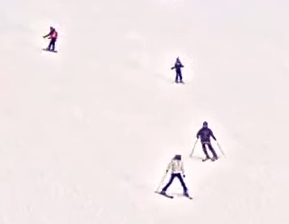skier: (144, 149, 201, 203), (184, 116, 231, 168), (166, 54, 191, 88)
snowboarder: (32, 20, 66, 59)
